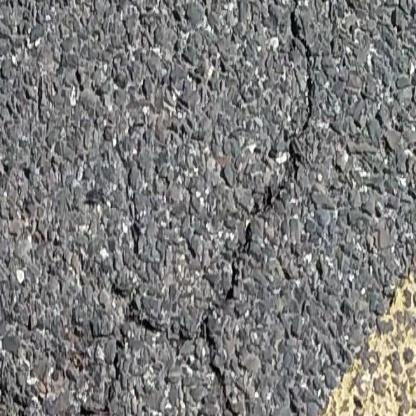Cracks: (32, 177, 416, 416), (50, 105, 416, 323), (0, 256, 351, 416), (250, 0, 356, 237), (0, 322, 82, 416)
